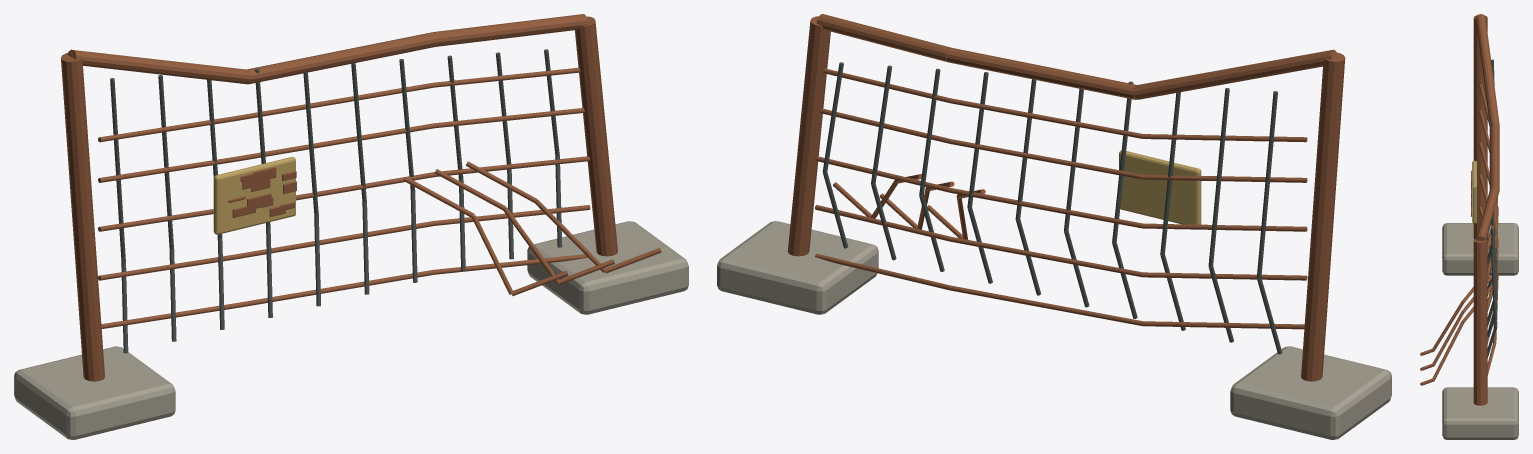
Rendered from Fence_Sagging_Wire.glb.
3 renders of one model, left to right at view 1: azimuth 30°, elevation 25°; view 2: azimuth 150°, elevation 25°; view 3: azimuth 270°, elevation 25°, orthographic. The views are drawn at different scales.
Parts seen in each view (by area): view 1: Fence foot, Fence foot.001, Bent fence post, Bent fence post.001, Faded warning plate, Sagging top rail.001, Sagging top rail, Sagging top rail.002, Fence horizontal wire.010, Fence horizontal wire.013, Fence horizontal wire.001, Fence horizontal wire.004 (+16 smaller); view 2: Fence foot, Fence foot.001, Bent fence post, Bent fence post.001, Faded warning plate, Sagging top rail, Sagging top rail.001, Sagging top rail.002, Fence horizontal wire.004, Fence horizontal wire.013, Fence horizontal wire.001, Fence horizontal wire.010 (+19 smaller); view 3: Fence foot.001, Fence foot, Bent fence post.001, Bent fence post, Sagging top rail, Sagging top rail.001, Sagging top rail.002, Faded warning plate, Fence vertical wire.019, Loose torn wire.007, Loose torn wire.004, Loose torn wire.001 (+6 smaller).
Part boxes in pixels (x1,y1,x2,y2): Fence foot: (14,346,175,439); Fence foot.001: (527,221,688,314); Bent fence post: (61,53,104,381); Bent fence post.001: (575,16,617,256); Faded warning plate: (213,157,295,234); Sagging top rail.001: (246,32,437,84); Sagging top rail: (67,49,251,84); Sagging top rail.002: (433,14,587,46); Fence horizontal wire.010: (237,123,434,161); Fence horizontal wire.013: (238,82,434,120); Fence horizontal wire.001: (238,270,434,307); Fence horizontal wire.004: (238,221,434,258); Fence foot: (1230,346,1391,439); Fence foot.001: (717,221,878,314); Bent fence post: (1301,52,1345,381); Bent fence post.001: (787,16,830,256); Faded warning plate: (1119,150,1201,224); Sagging top rail: (1133,49,1337,99); Sagging top rail.001: (946,48,1136,99); Sagging top rail.002: (816,14,951,62); Fence horizontal wire.004: (949,236,1142,277); Fence horizontal wire.013: (949,98,1142,138); Fence horizontal wire.001: (949,285,1142,325); Fence horizontal wire.010: (949,139,1142,179); Fence foot.001: (1442,387,1518,439); Fence foot: (1442,223,1518,275); Bent fence post.001: (1473,239,1487,405); Bent fence post: (1473,15,1487,239); Sagging top rail: (1475,14,1499,124); Sagging top rail.001: (1489,121,1499,189); Sagging top rail.002: (1476,186,1499,240); Faded warning plate: (1472,160,1476,223); Fence vertical wire.019: (1491,249,1497,326); Loose torn wire.007: (1432,321,1463,379); Loose torn wire.004: (1432,311,1463,364); Loose torn wire.001: (1432,301,1463,350).
Size of the model in its own units: 4 by 2.24 by 0.8383.
